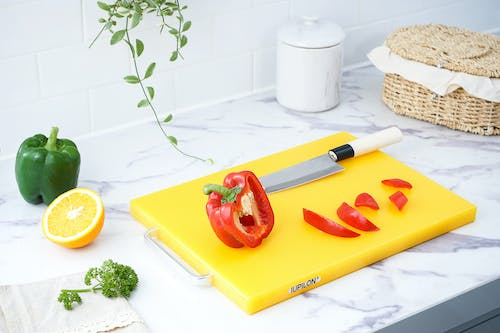knife: (257, 126, 404, 196)
